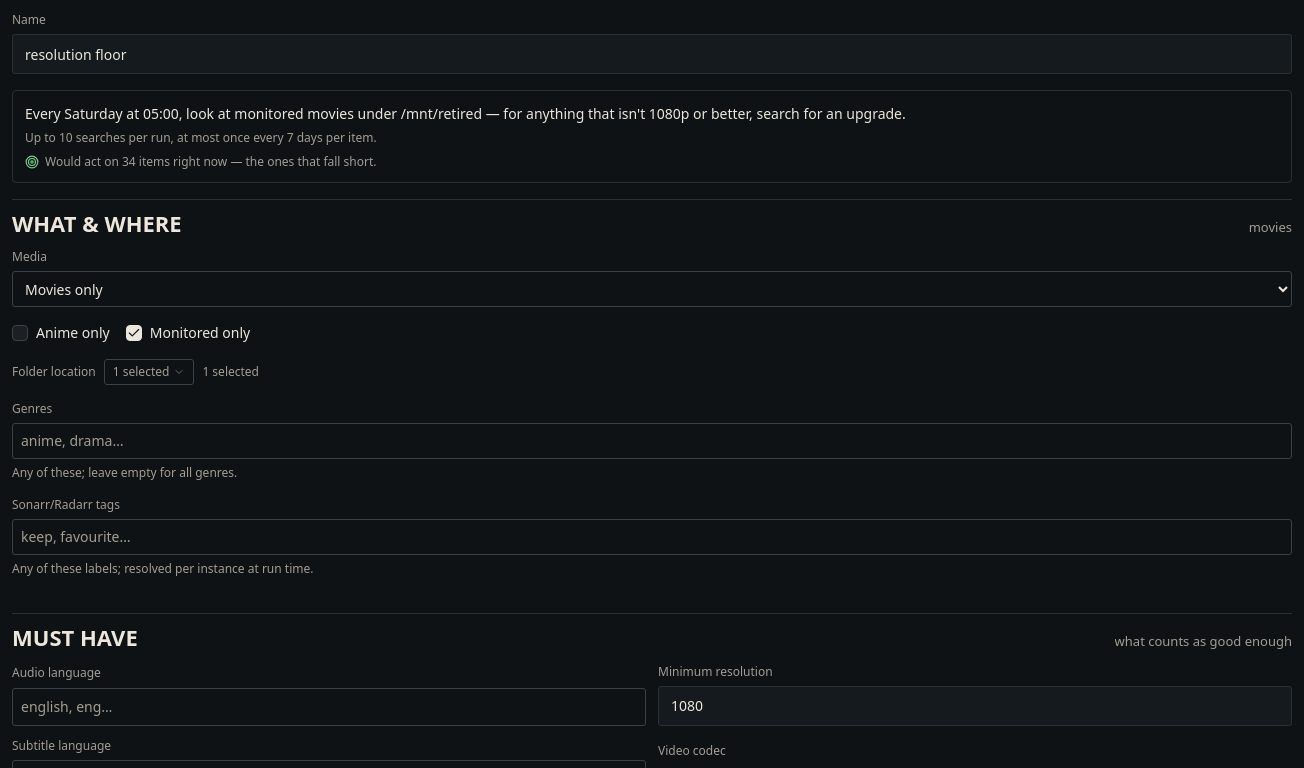
AutomationEditor › keeps a saved folder the library no longer reports
Click the button with aria-label "filter folder location" at x=149, y=372, box x1=104 y1=359 x2=194 y2=385
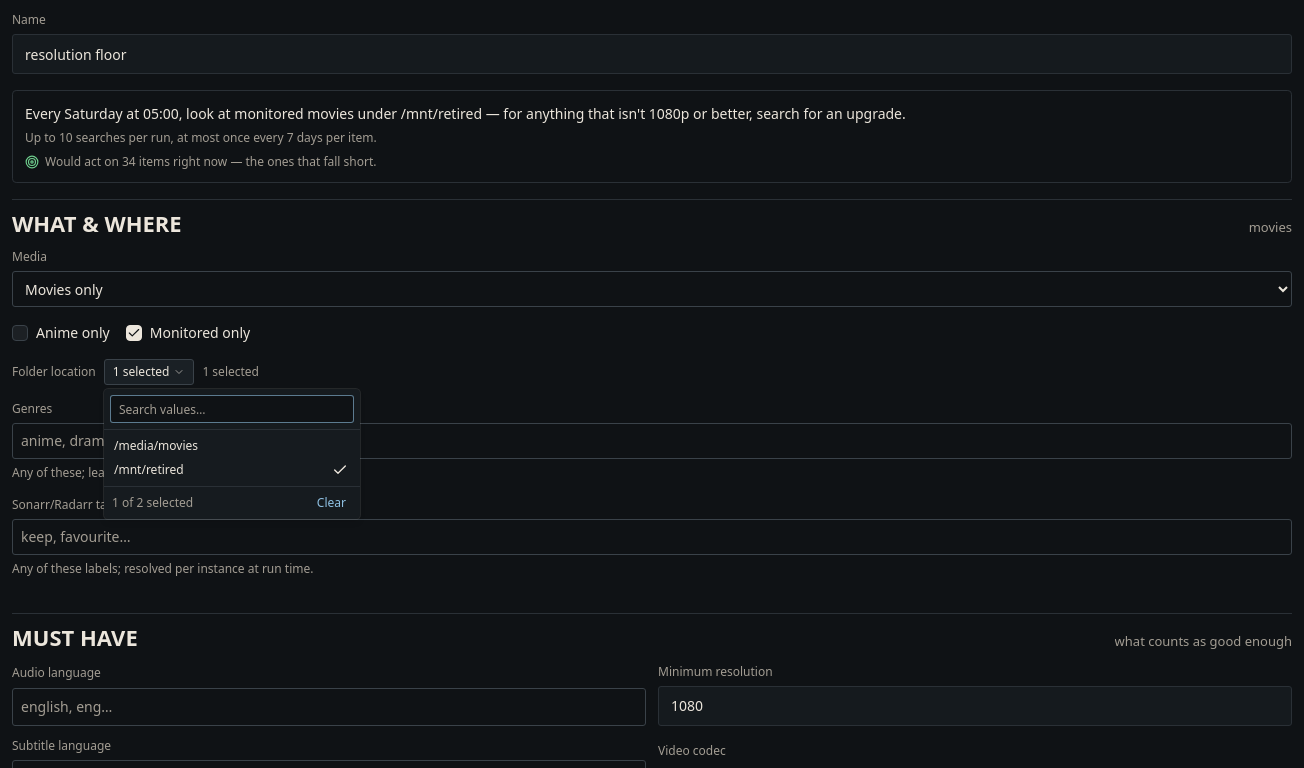
Result: the menu item "/mnt/retired" is shown at x1=108 y1=458 x2=356 y2=482
